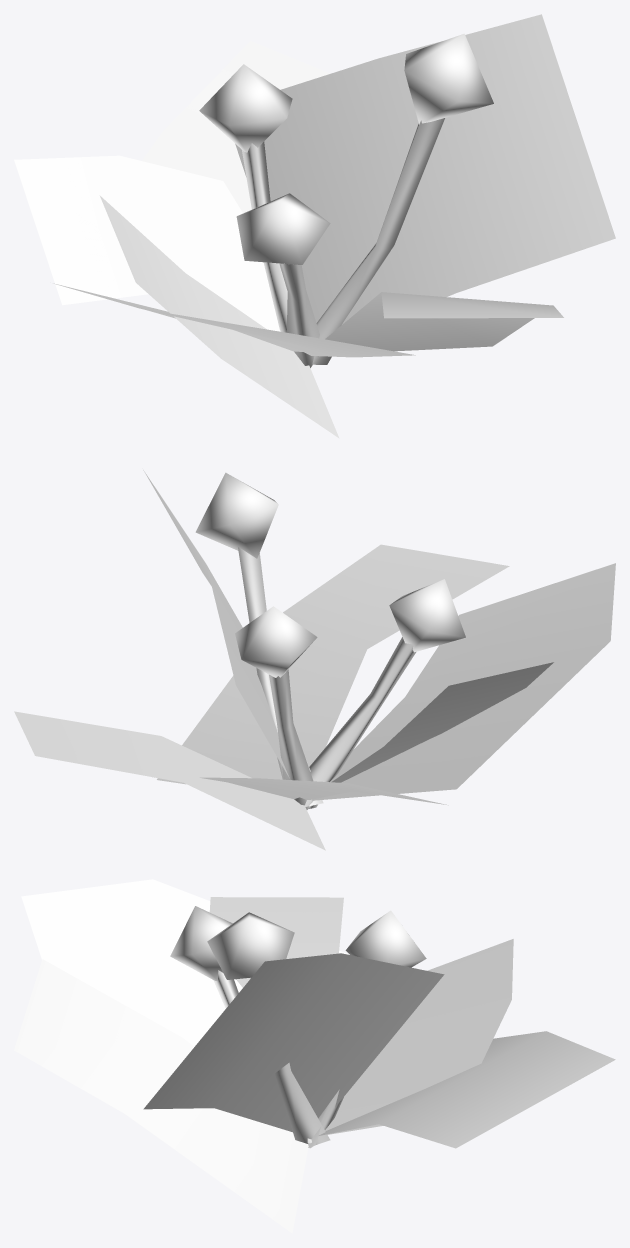
Rendered from Beidaying_zhiwu04.FBX.
3 renders of one model, top to bottom at view 1: azimuth 30°, elevation 25°; view 2: azimuth 150°, elevation 25°; view 3: azimuth 270°, elevation 25°, orthographic. The views are drawn at different scales.
Visible parts, largest first — view 1: Beidaying_zhiwu04; view 2: Beidaying_zhiwu04; view 3: Beidaying_zhiwu04.
Boxes of the visible parts, x1,y1,x2,y2 form: Beidaying_zhiwu04: (14,14,615,438); Beidaying_zhiwu04: (14,470,615,850); Beidaying_zhiwu04: (14,879,615,1233).
Size of the model in its own units: 90.2 by 110 by 59.26.
